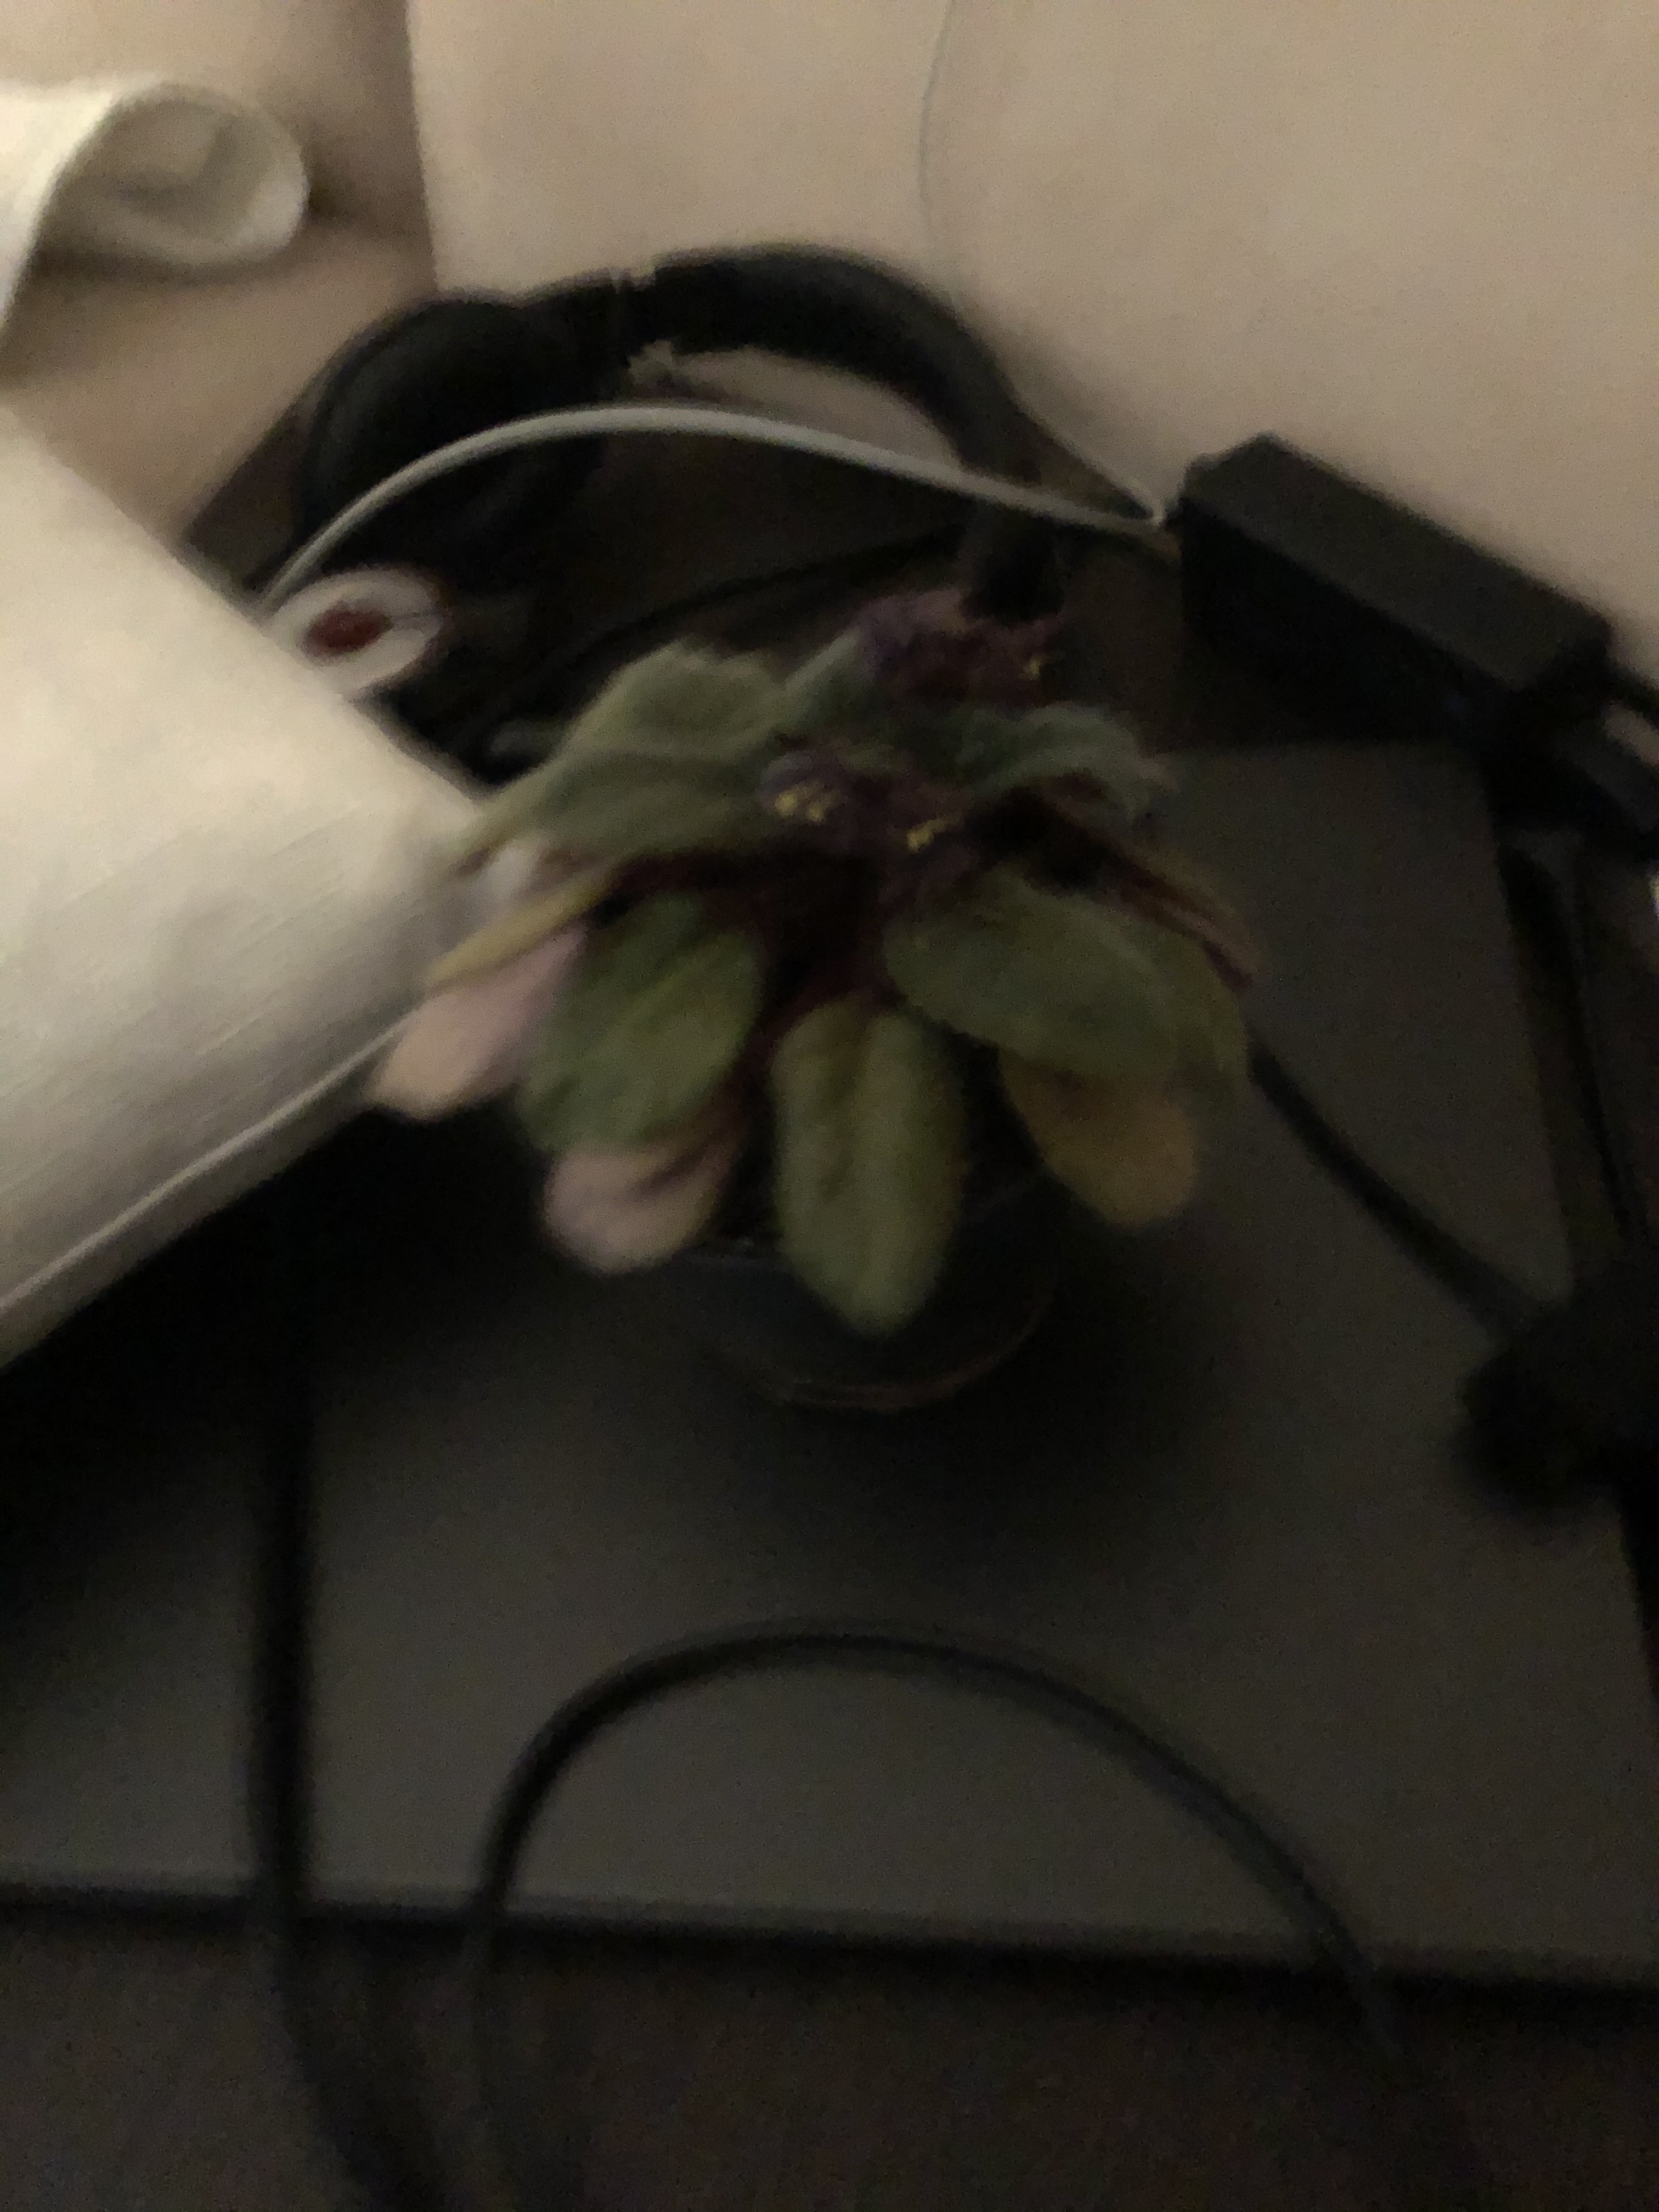ignore: (376, 589, 1298, 1376)
